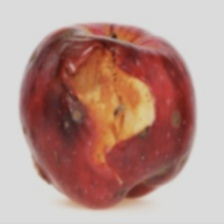apple: (41, 27, 206, 166)
